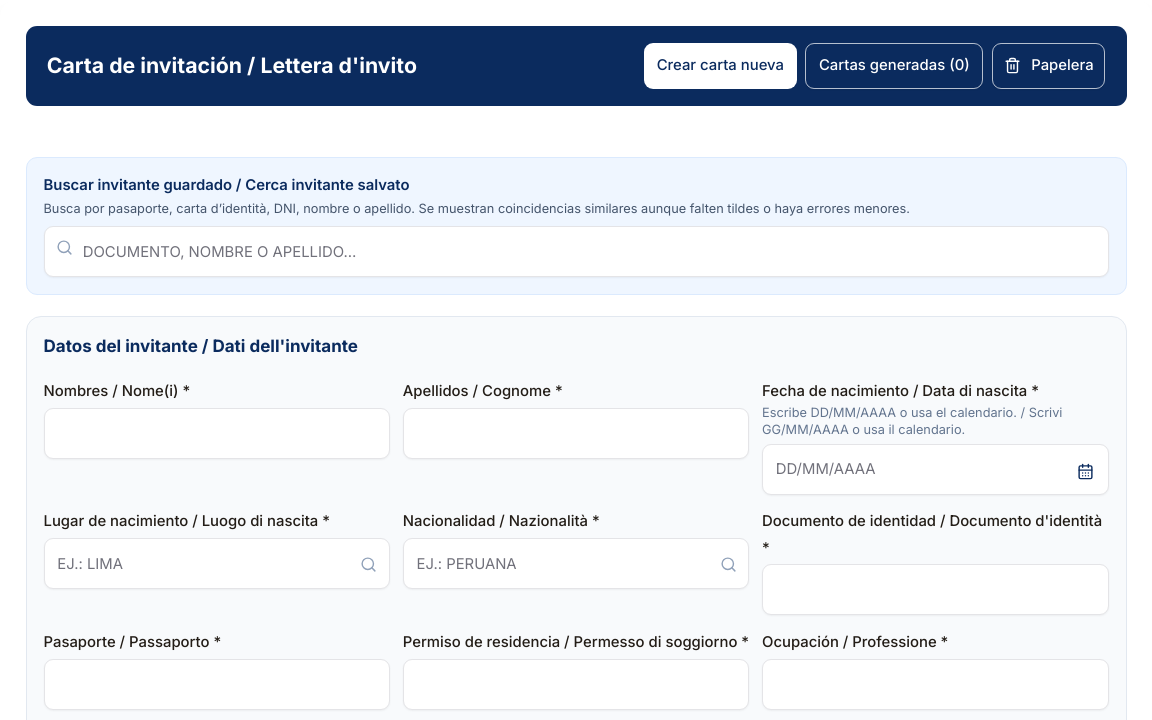
InvitationLetterWorkspace › incluye departamentos peruanos en la búsqueda automática de lugar de nacimiento
This screenshot has width=1152, height=720.
Type "juni" into the field labelled "Lugar de nacimiento / Luogo di nascita *" at (217, 564), box 44,538 -> 390,589
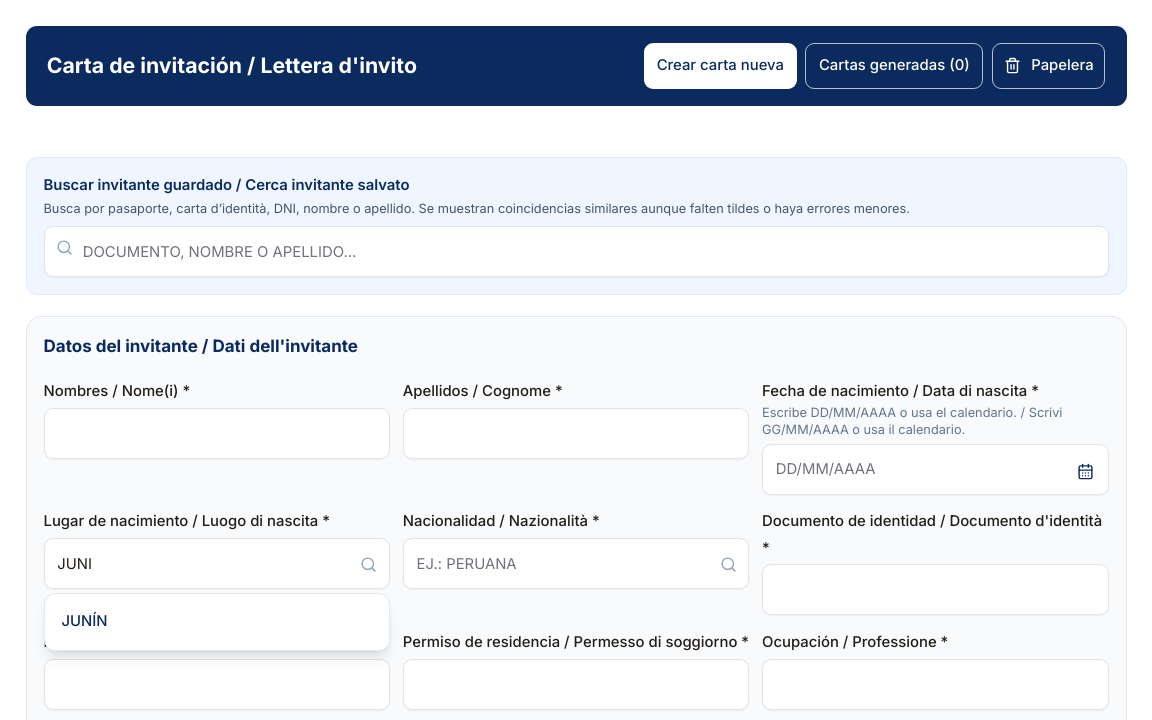
Result: the button "JUNÍN" is shown at 49,598 -> 385,645
